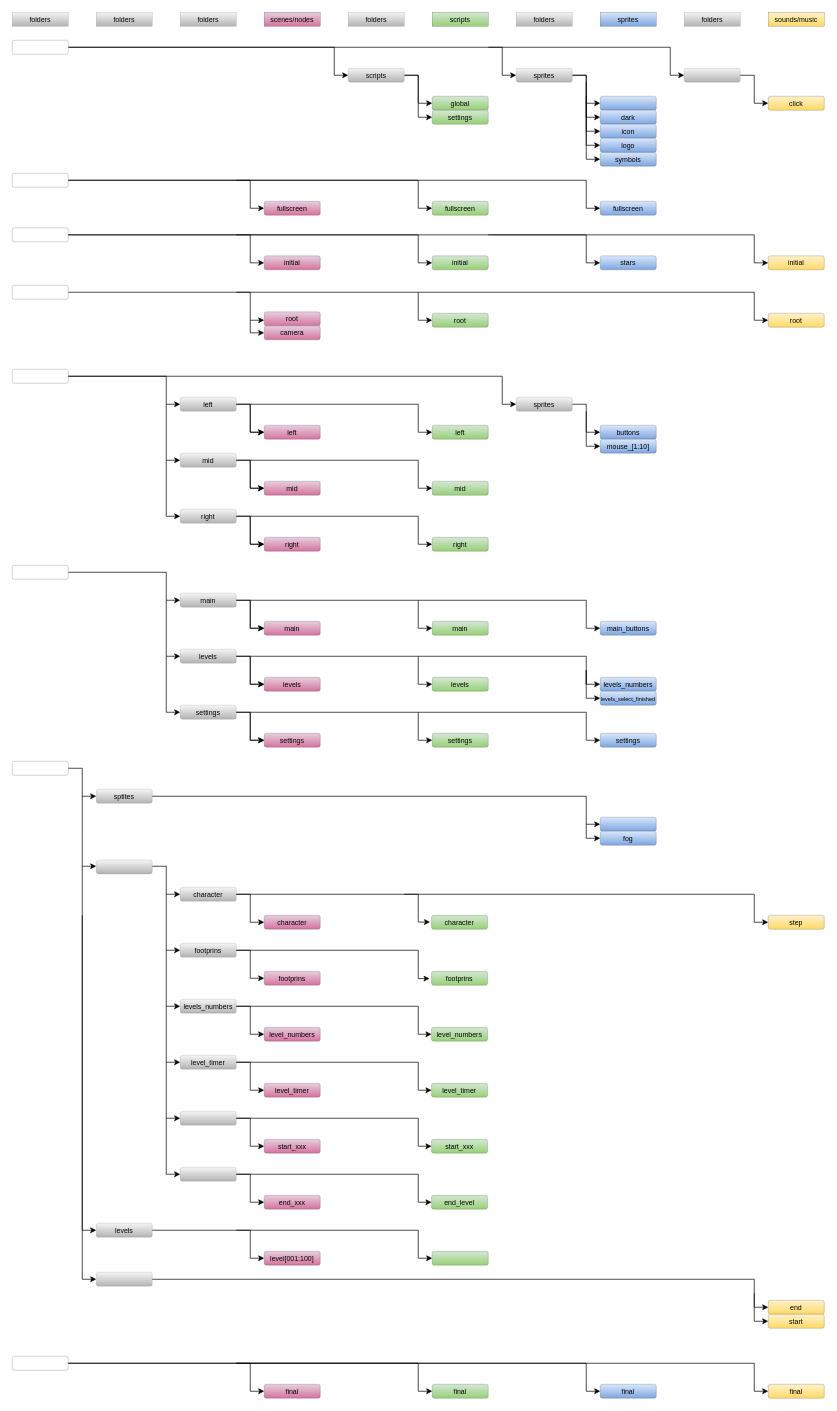
The diagram is 837 pixels wide and 1411 high, and some of its shapes have lost their labels. The shapes that lost their labels are listed below. From the top down, each one's centre as x and y in pixels, then its label:
the point at 40,47: a_global
the point at 712,75: sounds
the point at 628,103: background
the point at 40,180: b_fullscreen
the point at 40,234: c_initial
the point at 40,292: d_root
the point at 40,376: e_control
the point at 40,572: f_menu
the point at 40,768: f_levels
the point at 628,824: game_sprites
the point at 124,867: nodes
the point at 208,1118: levels_starts
the point at 208,1174: level_finals
the point at 460,1258: level
the point at 124,1279: music
the point at 40,1363: g_final
